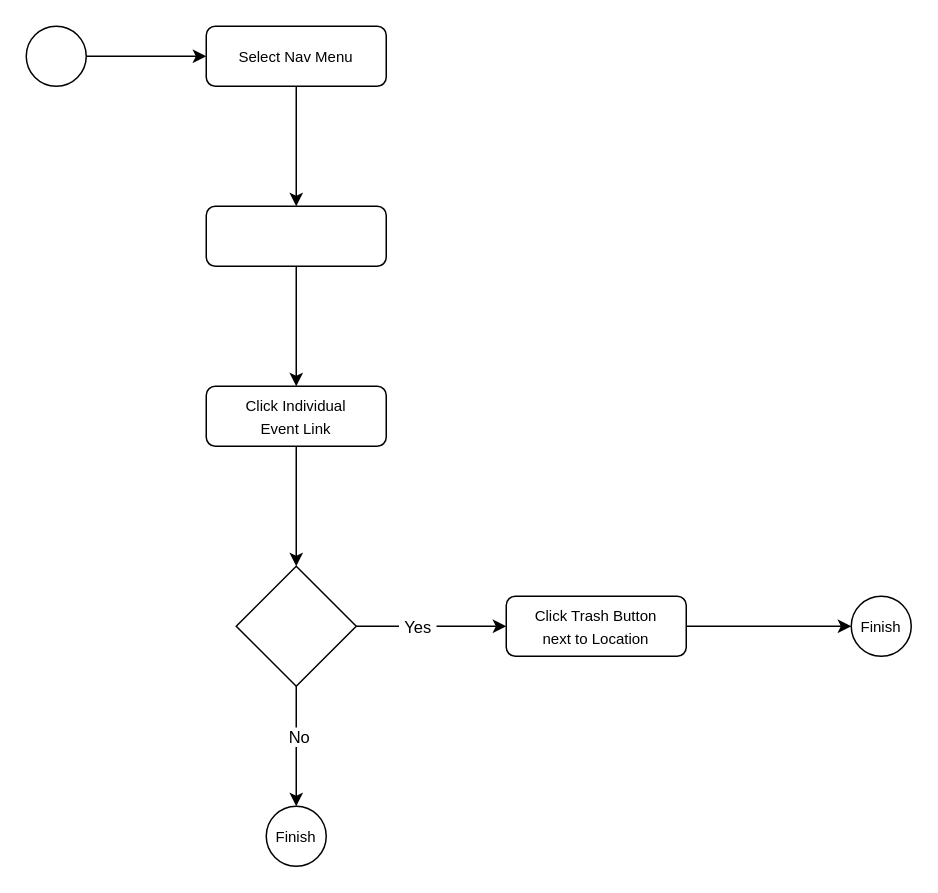
Image size: 938x893. Some labels were removed from this diagram. Each missing label, with the box of its shape:
Click Events Link: (205, 205, 386, 266)
Has Location?: (235, 565, 356, 686)
Start: (25, 25, 86, 86)
